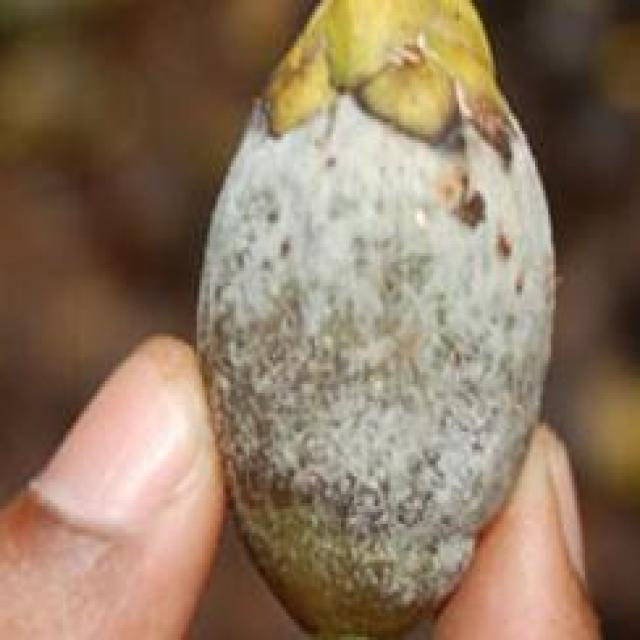damaged: (194, 0, 556, 637)
